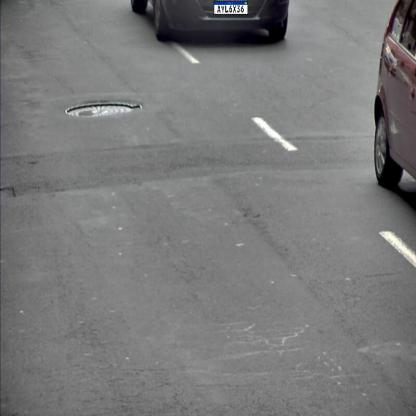PlacaM: (214, 0, 248, 14)
